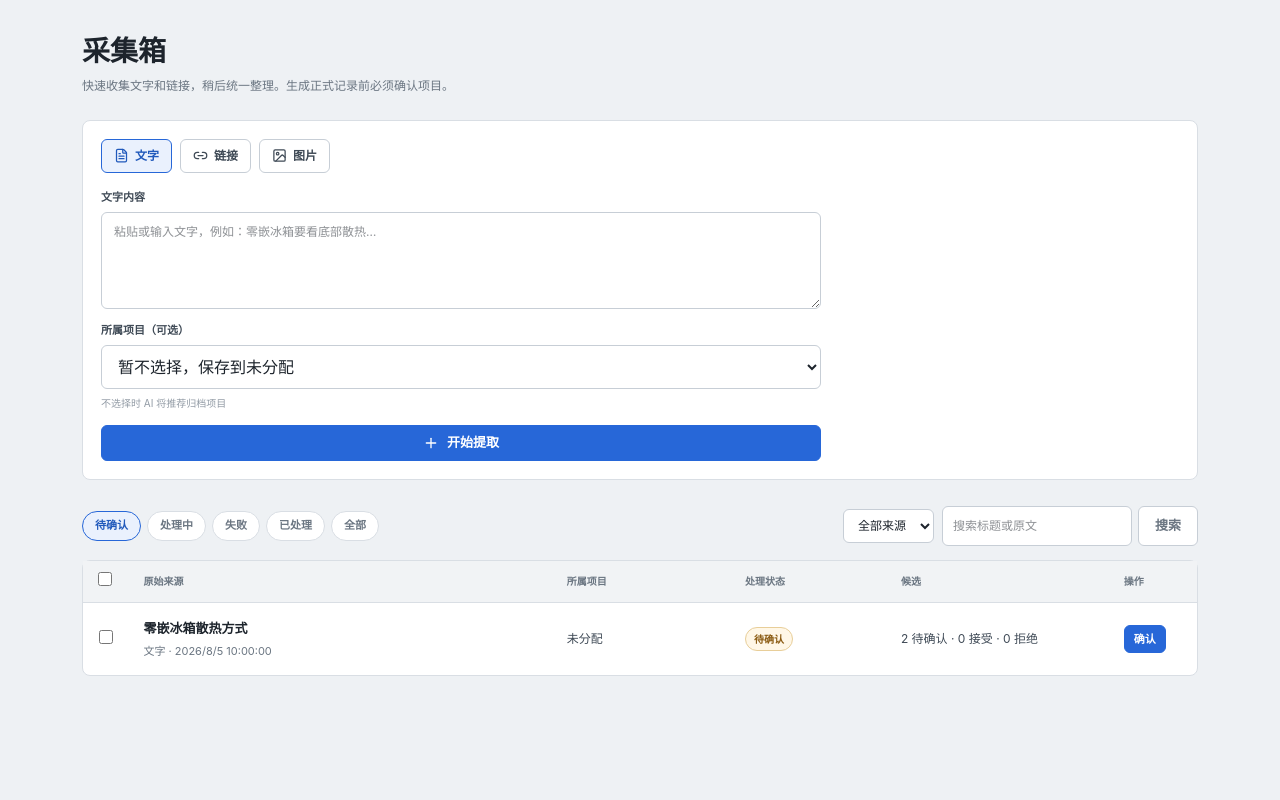
Test case: InboxPage capture and queue › opens the batch confirm dialog for selected pending sources
Click the checkbox named "选择 零嵌冰箱散热方式": x=106, y=637 [99,630,113,644]
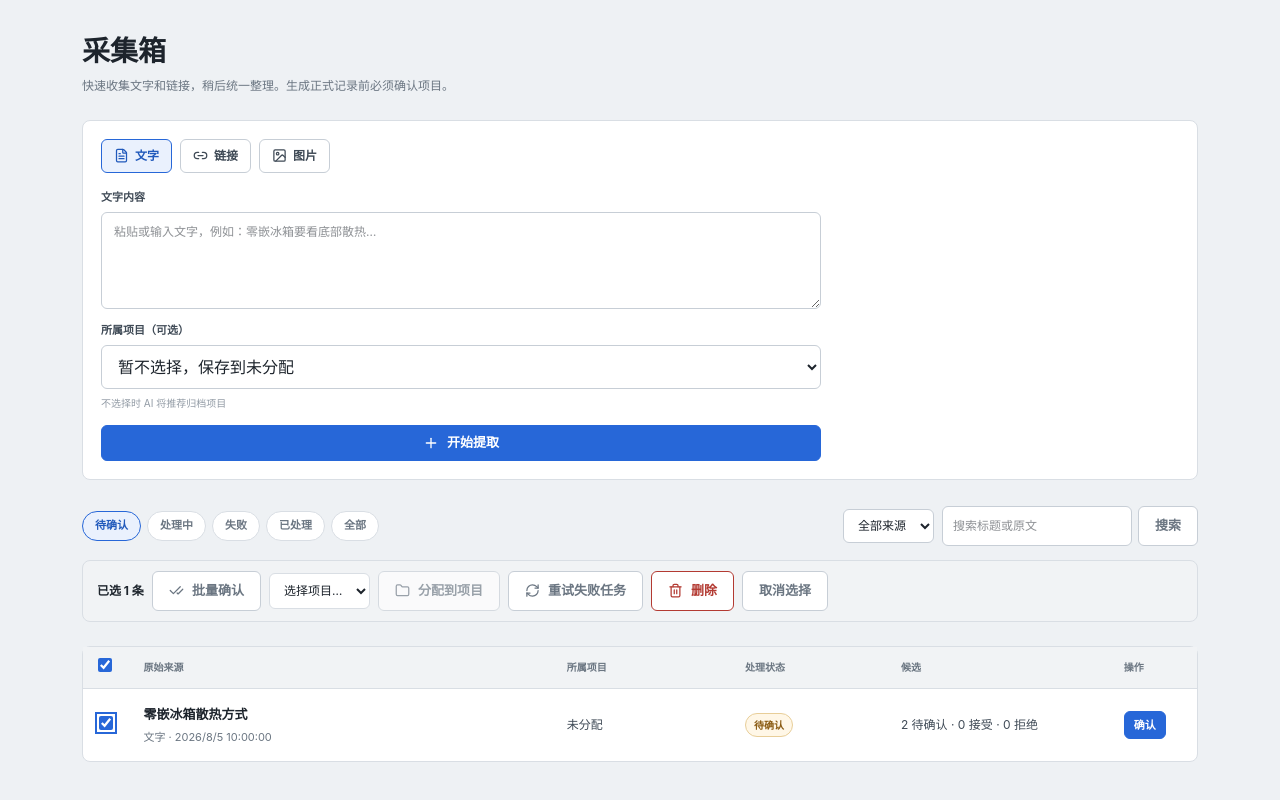
Result: the button "批量确认" is enabled
Click the button "批量确认": x=206, y=591 [152,571,261,611]
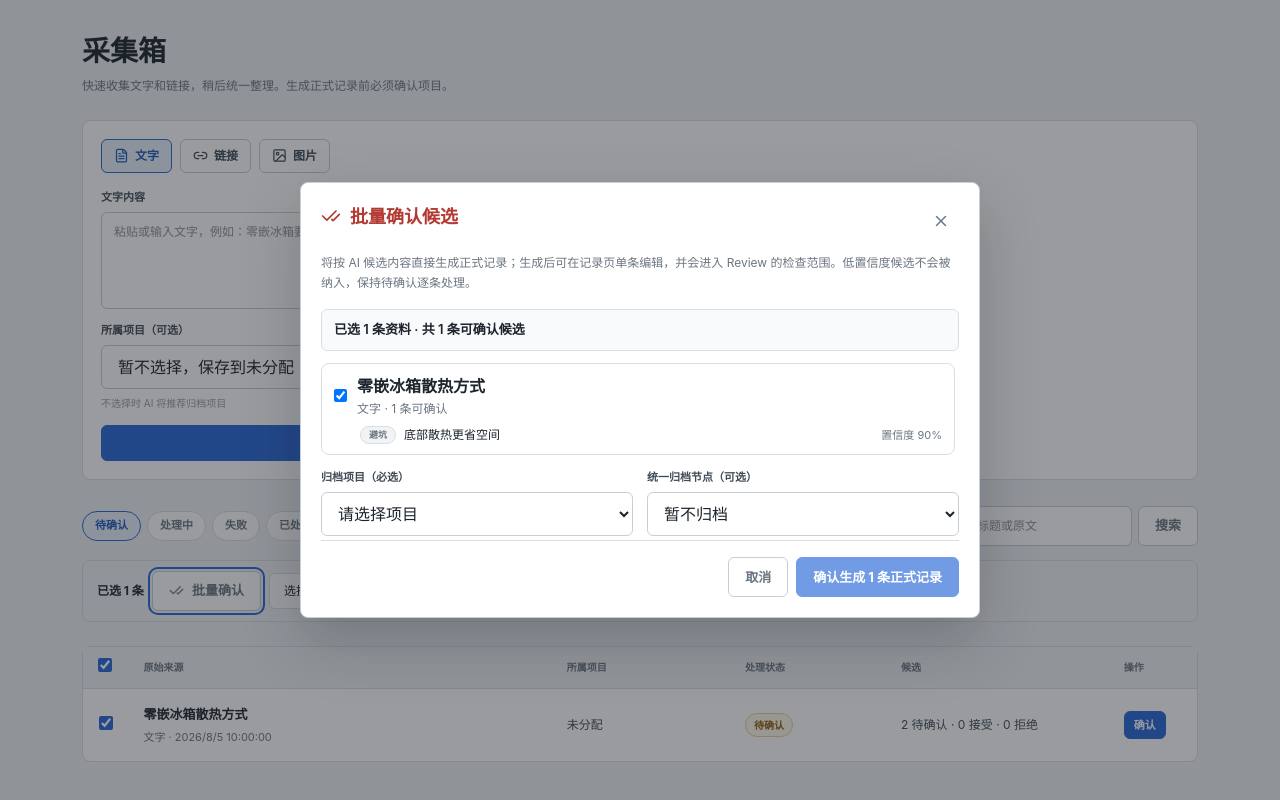
Result: the dialog shows "批量确认候选" at [350,206,458,227]
Result: the text "底部散热更省空间" is shown at [404,426,500,444]
Result: the button "确认生成 1 条正式记录" is disabled at [796,557,959,597]
